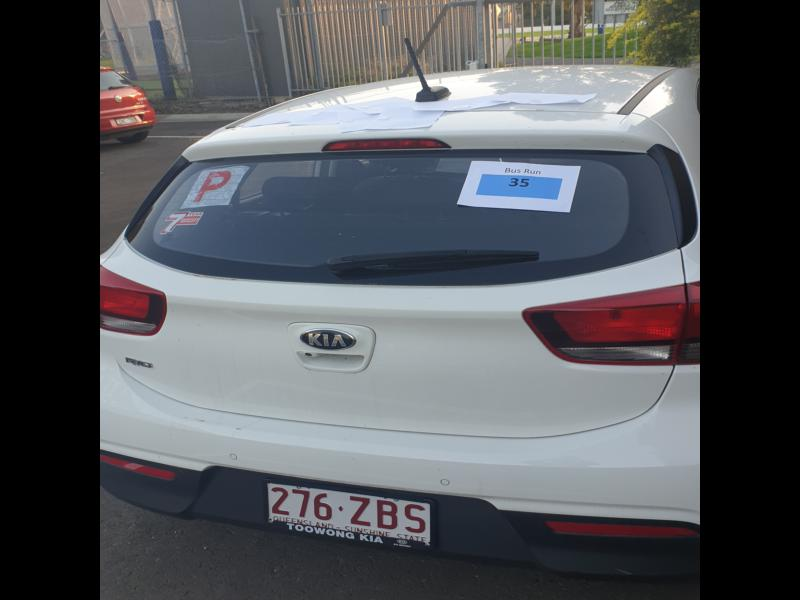BusRun: (481, 174, 563, 199)
PlateNo: (265, 480, 433, 543)
